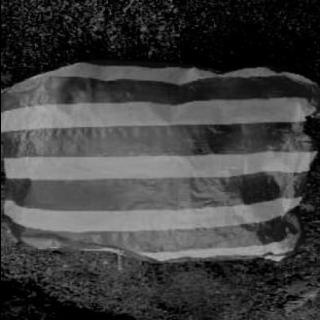objects: (0, 60, 319, 264)
